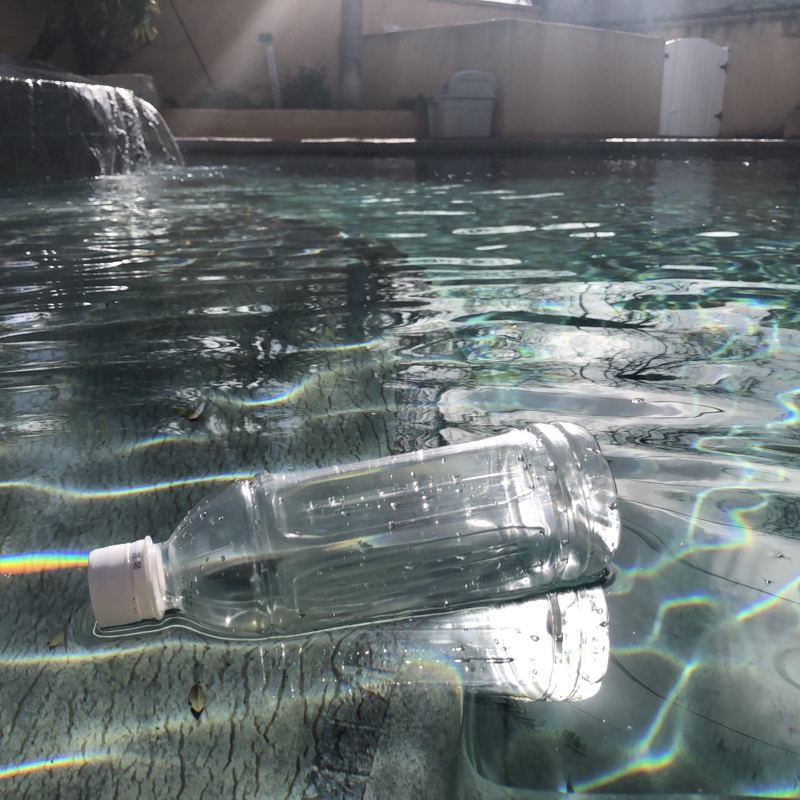Plastic Bottle: (84, 418, 623, 648)
